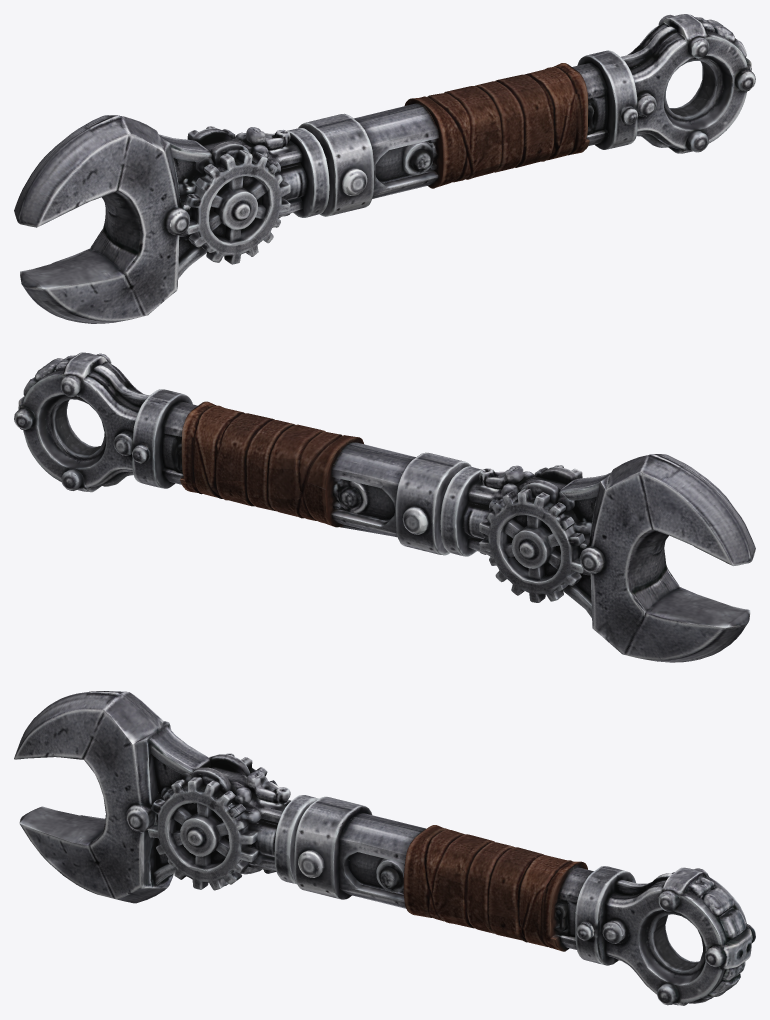
File: wrench.glb
The picture shows the model from 3 angles, top to bottom: view 1: azimuth 30°, elevation 25°; view 2: azimuth 150°, elevation 25°; view 3: azimuth 330°, elevation 25°; orthographic projection.
Parts seen in each view (by area): view 1: Mesh_0; view 2: Mesh_0; view 3: Mesh_0.
Part boxes in pixels (x1,y1,x2,y2): Mesh_0: [14, 14, 755, 323]; Mesh_0: [14, 352, 755, 662]; Mesh_0: [14, 691, 755, 1005].
Size of the model in its own units: 1.9 by 0.5135 by 0.2338.
Materials: 1 (1 with a texture image).
